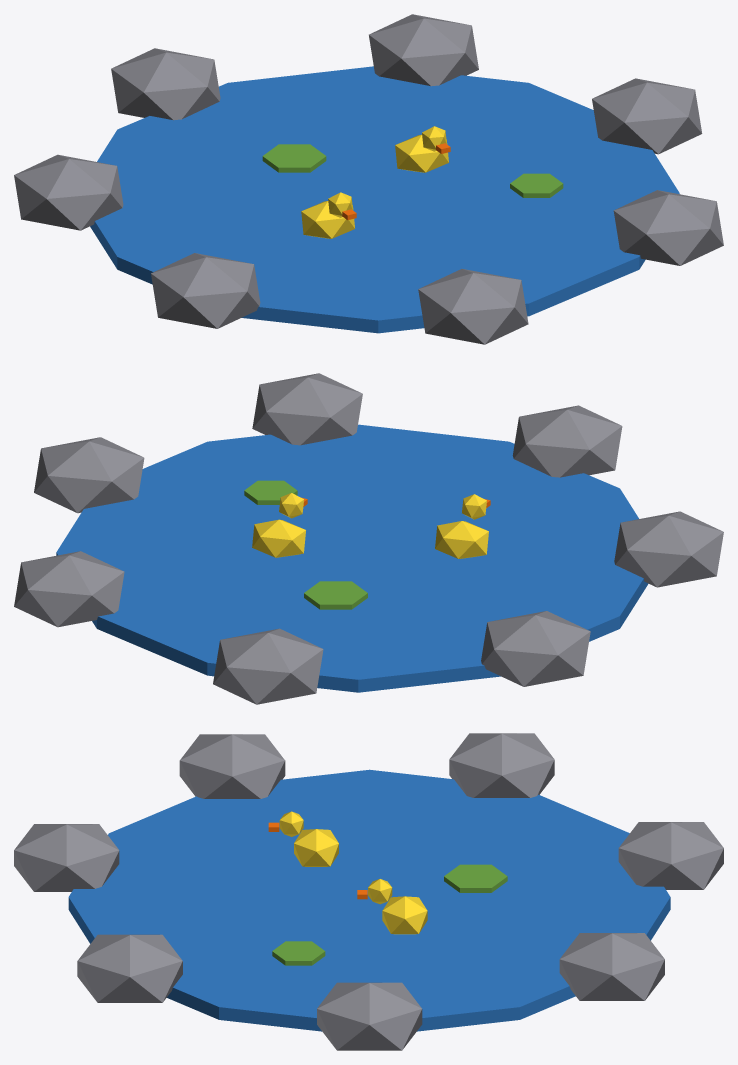
Rendered from pond_ducks.glb.
3 renders of one model, top to bottom at view 1: azimuth 30°, elevation 25°; view 2: azimuth 150°, elevation 25°; view 3: azimuth 270°, elevation 25°, orthographic.
Visible parts, largest first — view 1: pond_ducks; view 2: pond_ducks; view 3: pond_ducks.
Part boxes in pixels (x1,y1,x2,y2): pond_ducks: [14, 14, 723, 344]; pond_ducks: [14, 373, 723, 704]; pond_ducks: [14, 733, 723, 1050].
Size of the model in its own units: 3.96 by 0.44 by 4.01.
